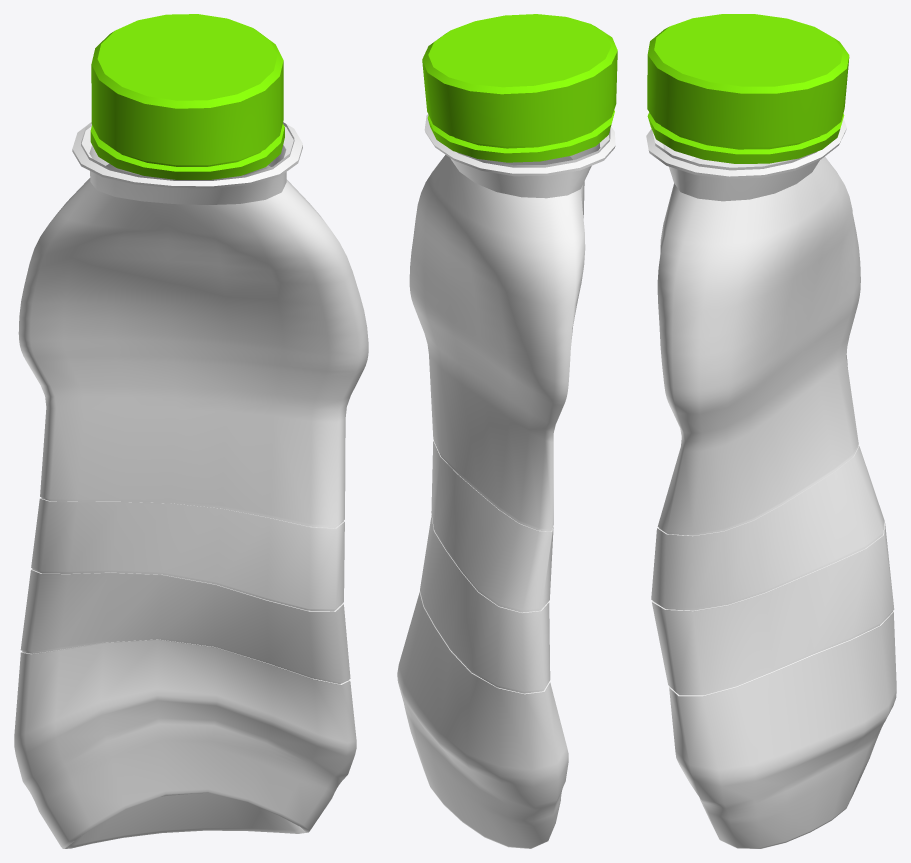
File: chai4.glb
3 renders of one model, left to right at view 1: azimuth 30°, elevation 25°; view 2: azimuth 150°, elevation 25°; view 3: azimuth 270°, elevation 25°, orthographic. The views are drawn at different scales.
Parts seen in each view (by area): view 1: Cylinder005_Blue bottle_0, Cylinder005_Red cap_0; view 2: Cylinder005_Blue bottle_0, Cylinder005_Red cap_0; view 3: Cylinder005_Blue bottle_0, Cylinder005_Red cap_0.
Part boxes in pixels (x1,y1,x2,y2): Cylinder005_Blue bottle_0: [14, 122, 368, 848]; Cylinder005_Red cap_0: [90, 14, 284, 179]; Cylinder005_Blue bottle_0: [397, 114, 615, 848]; Cylinder005_Red cap_0: [422, 14, 617, 162]; Cylinder005_Blue bottle_0: [646, 118, 896, 848]; Cylinder005_Red cap_0: [647, 14, 849, 163].
Bounding box in the file's own units: 0.0193 × 0.059 × 0.0175.
